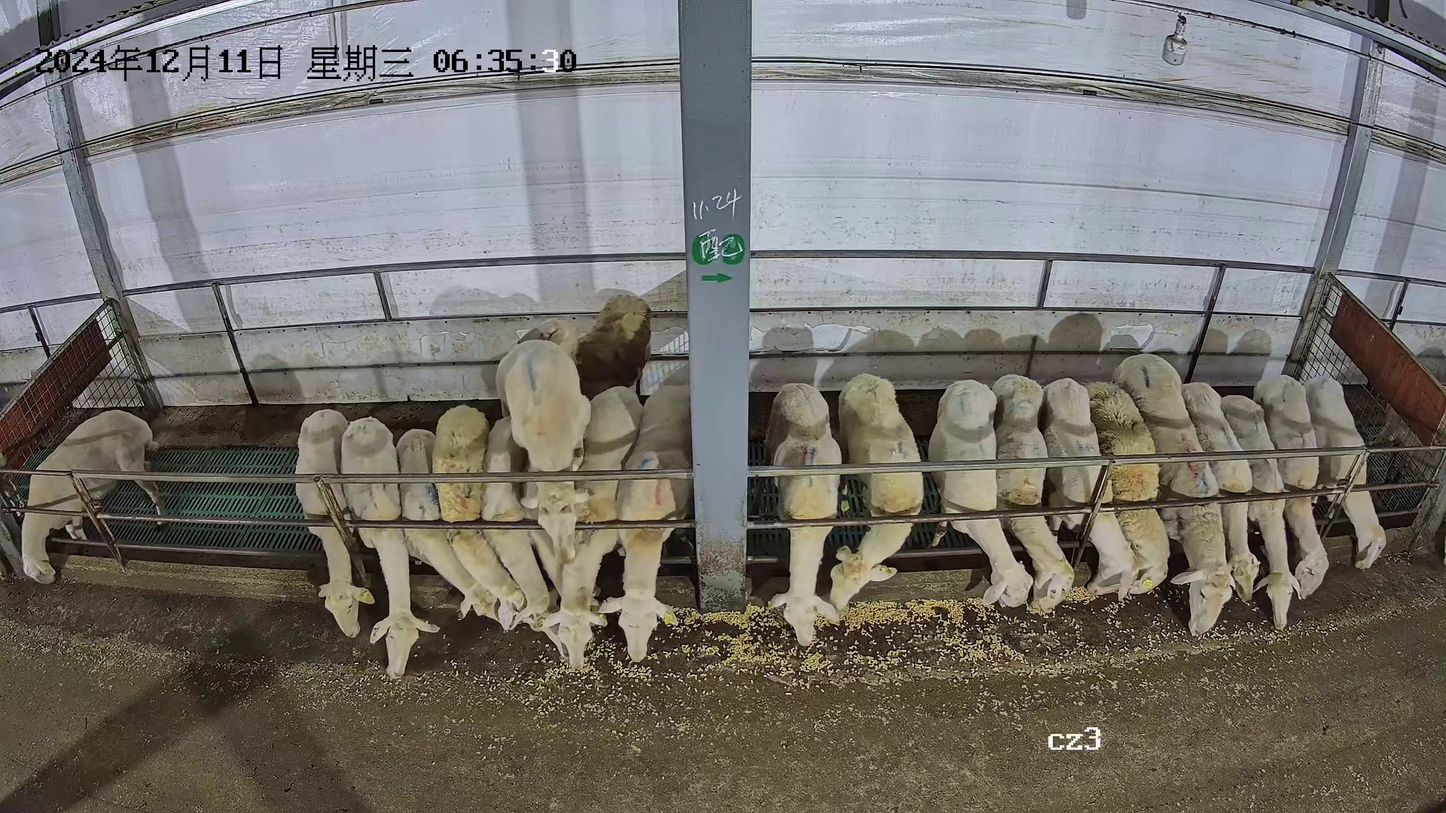Nmounting: (493, 339, 601, 670)
